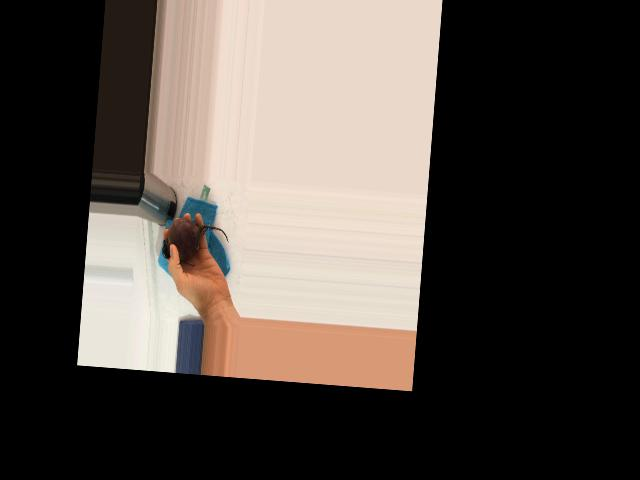beet: (161, 216, 230, 267)
